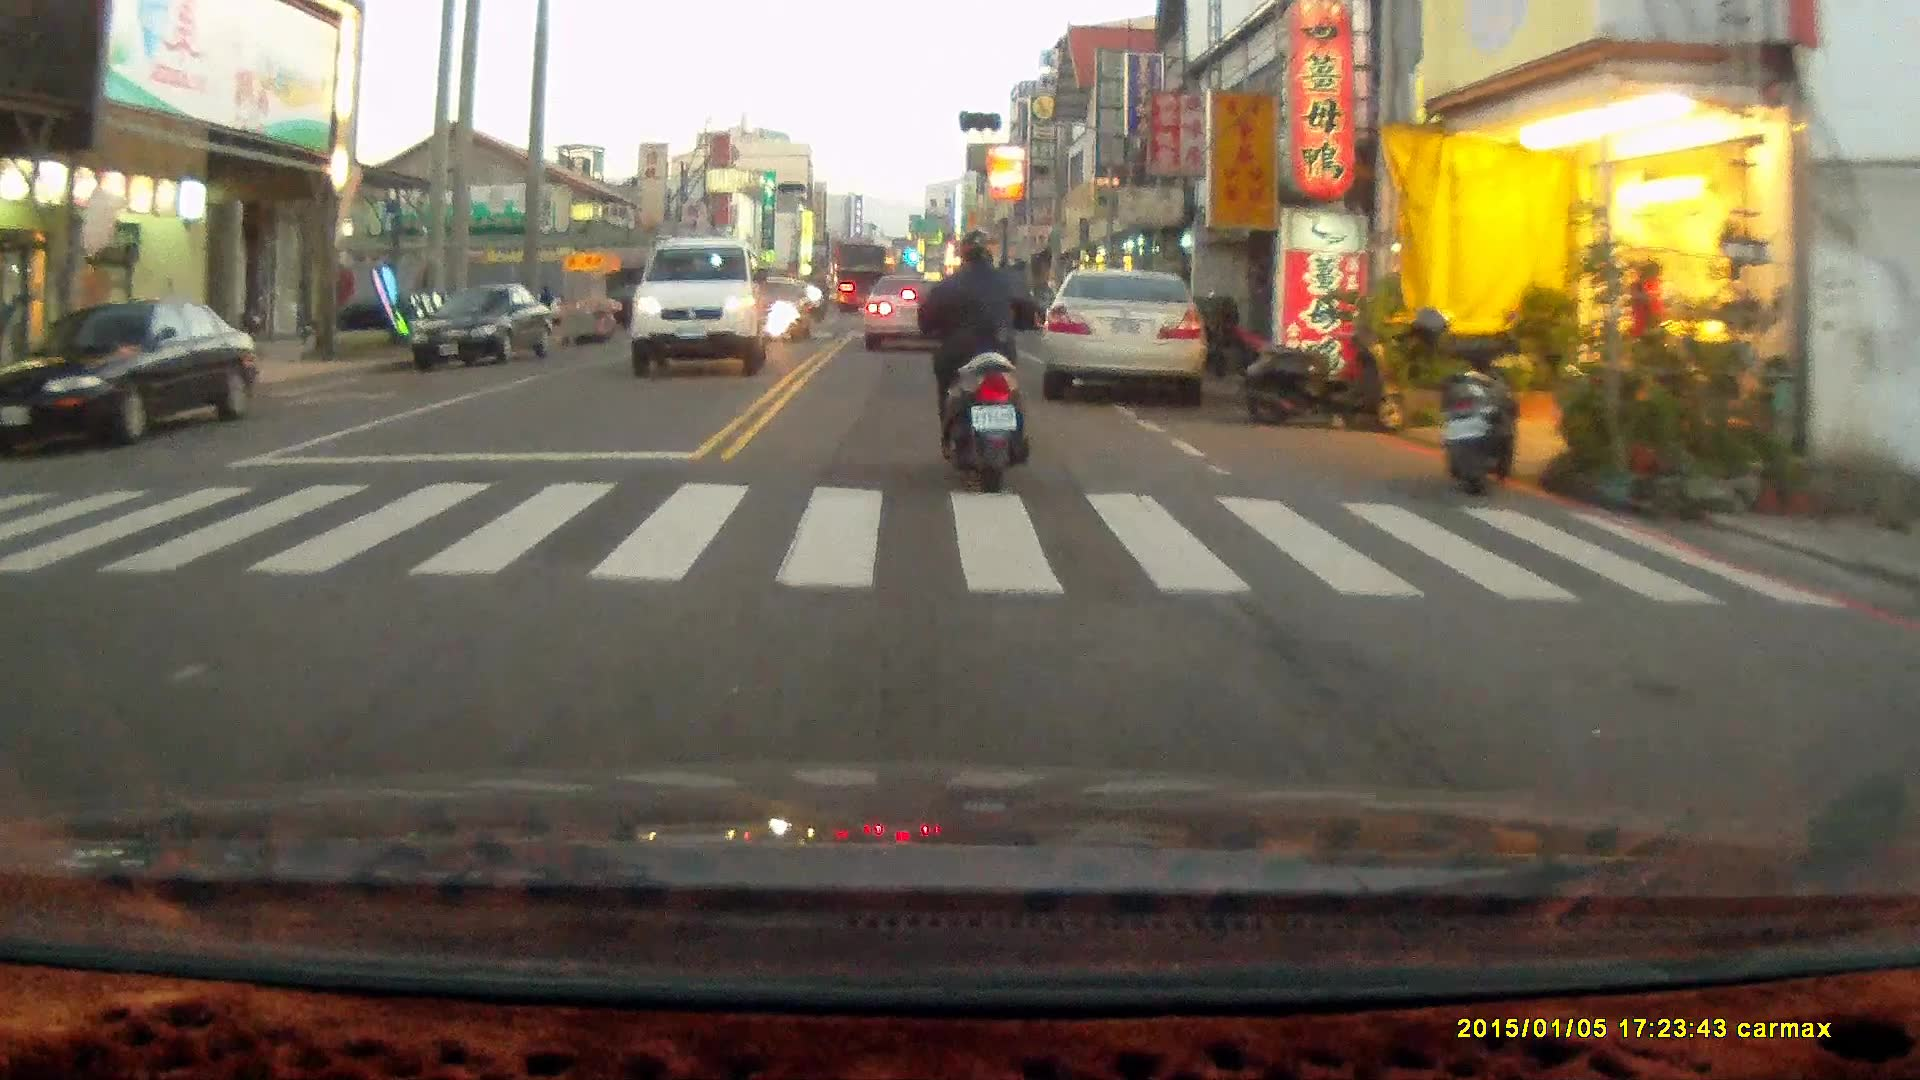pedestrian: (1630, 258, 1671, 399)
rider: (916, 226, 1040, 493)
vehicle: (5, 296, 255, 445), (1043, 270, 1208, 408), (632, 238, 769, 379), (412, 280, 552, 373), (860, 273, 959, 350)
